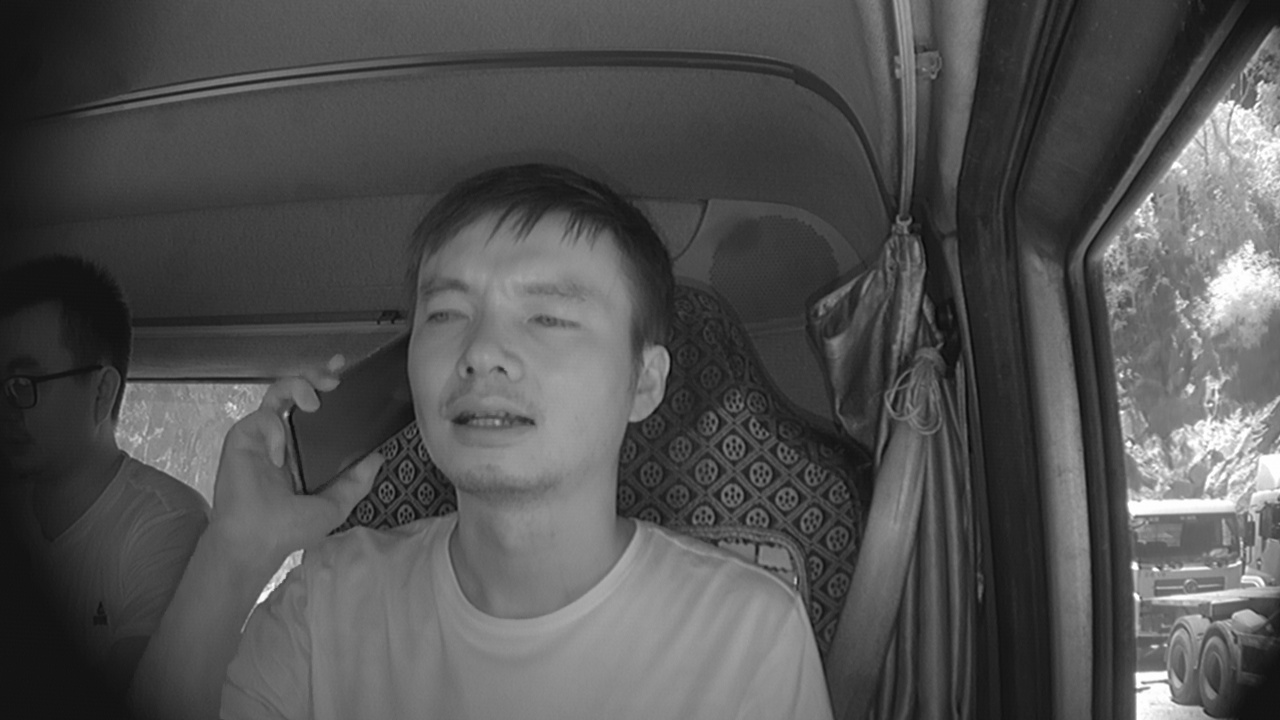hand: (212, 354, 377, 549)
